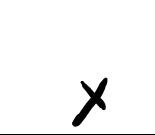mult: (72, 77, 110, 126)
